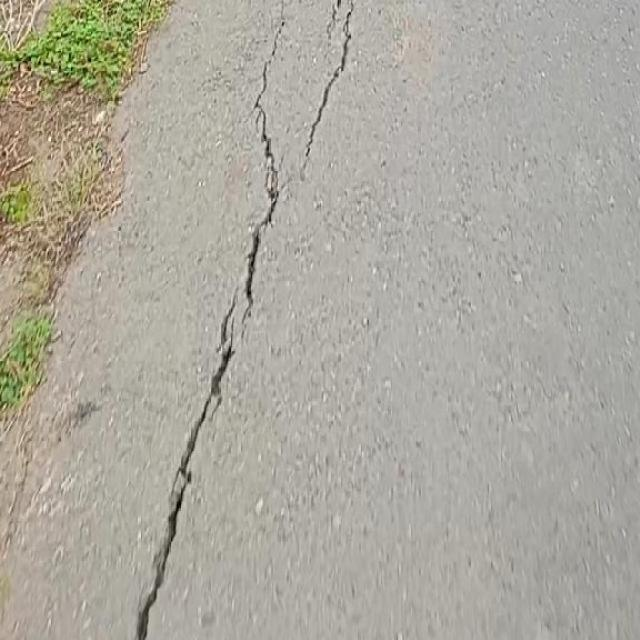Memanjang: (118, 3, 300, 640)
